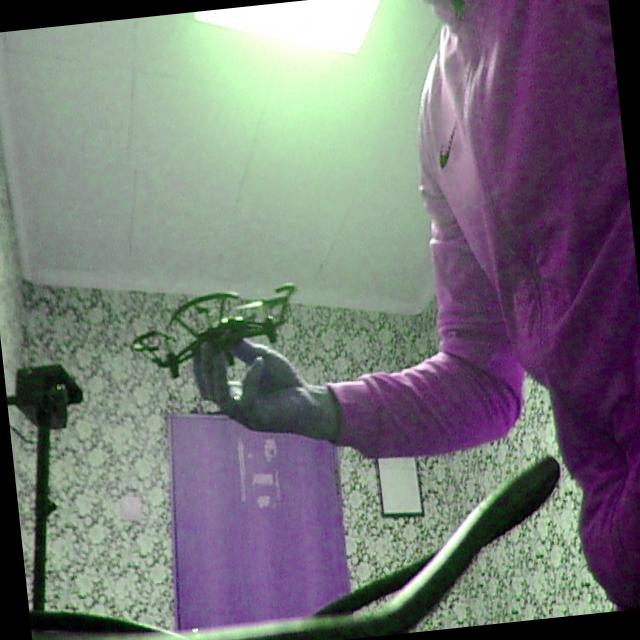drone: (110, 269, 310, 372)
